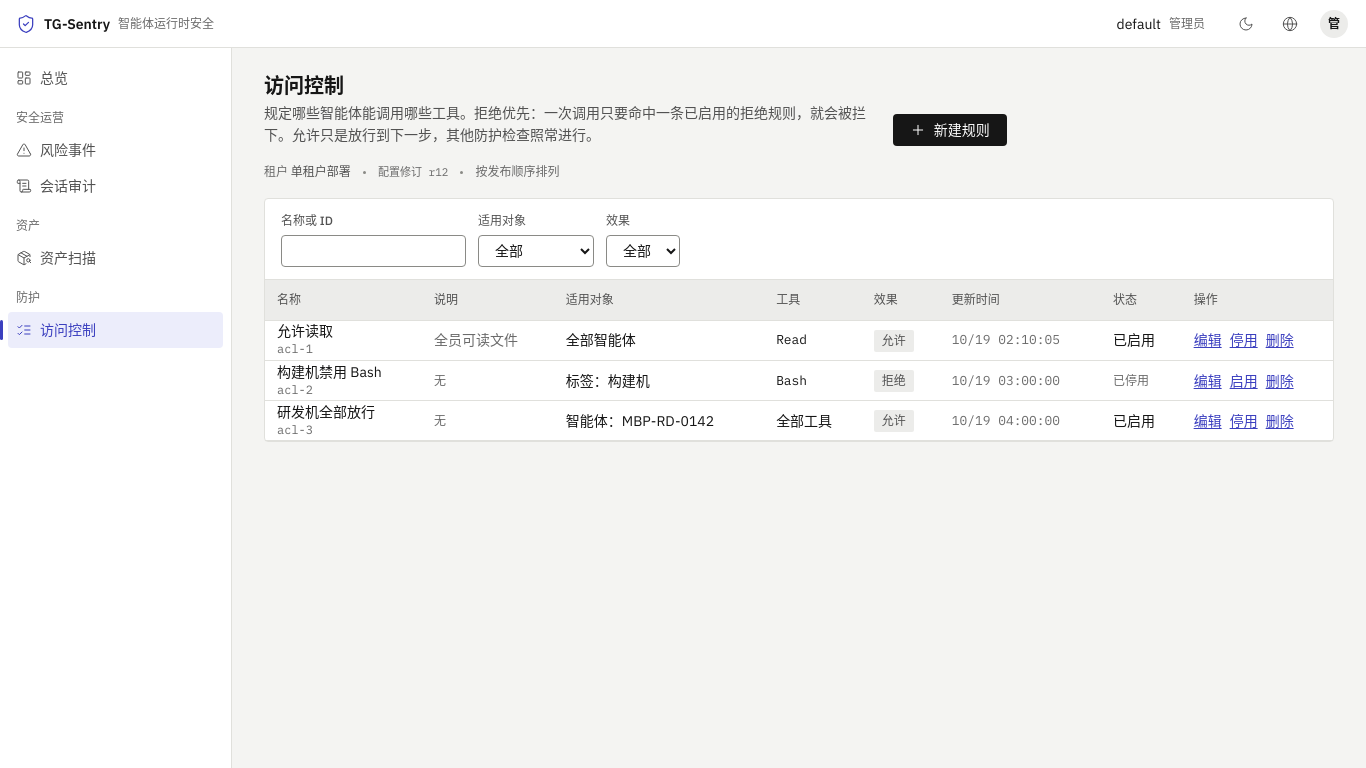
Test case: ACL review → publish from a row (#44 S5b) › delete: reviews {delete:true}, warns about losing the last allow, publishes DELETE
Click the button with aria-label "删除规则“允许读取”": [1280, 340] box [1266, 329, 1294, 351]
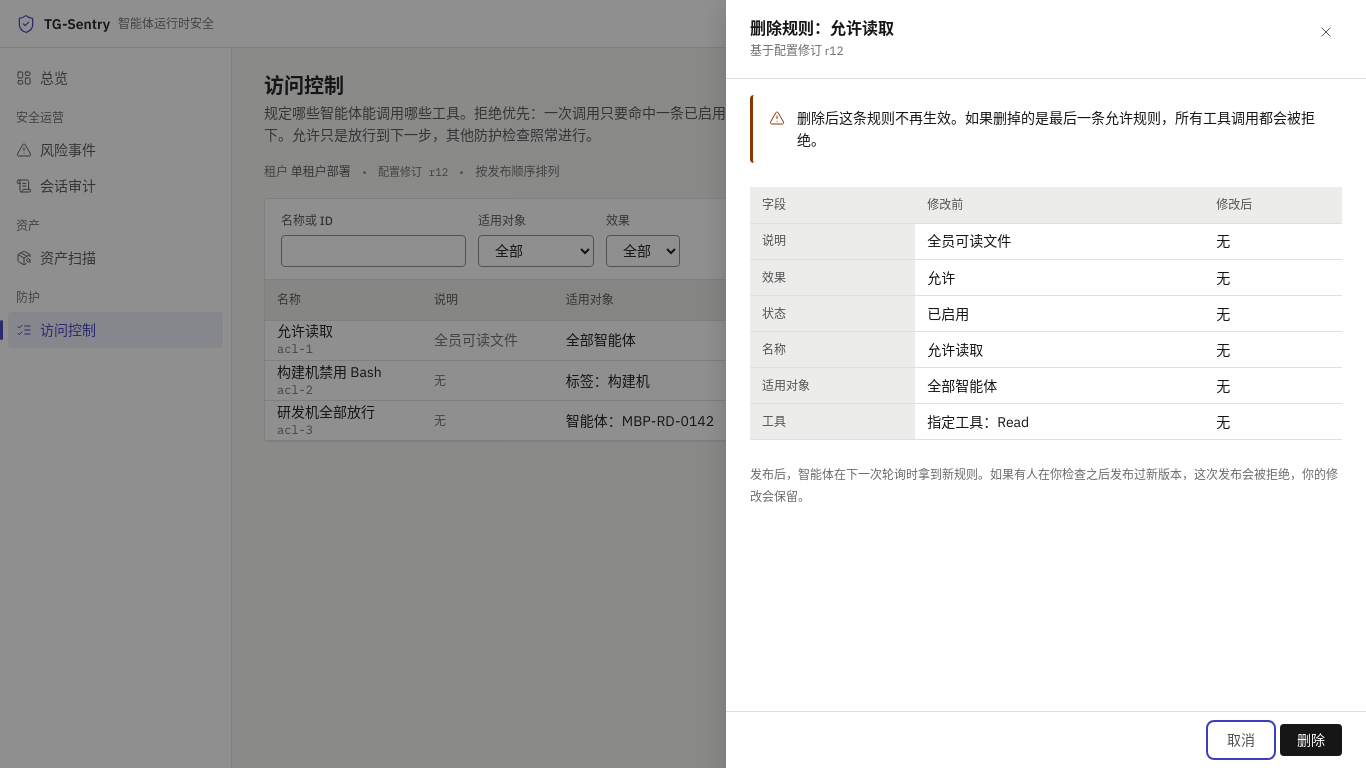
Check: the text "删除后这条规则不再生效。如果删掉的是最后一条允许规则，所有工具调用都会被拒绝。" is shown, box [797, 107, 1326, 151]
Check: the row "适用对象 全部智能体 无" is shown, box [750, 368, 1342, 404]
Check: the row "工具 指定工具：Read 无" is shown, box [750, 404, 1342, 440]
Click the button "删除": [1311, 740] box [1280, 724, 1342, 756]
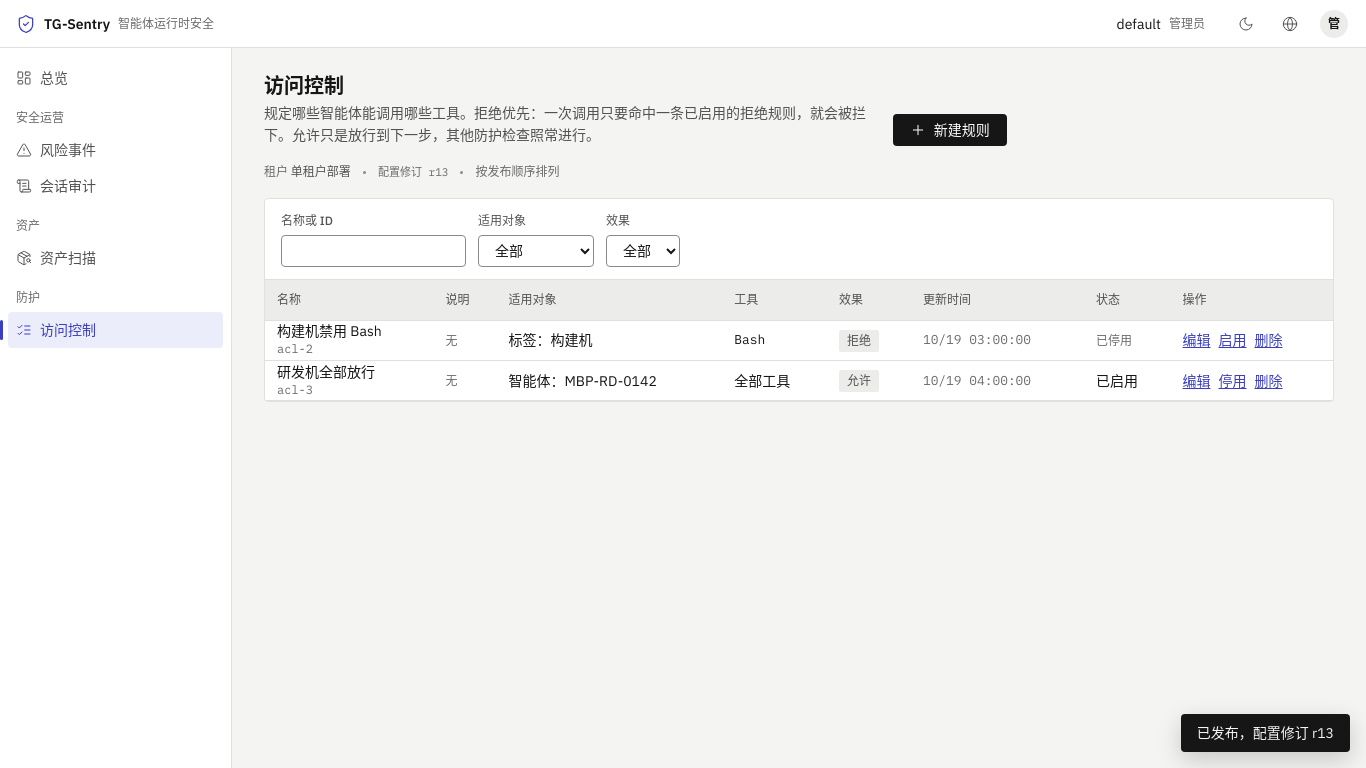
Check: the dialog is gone
Check: the text "允许读取" is gone
